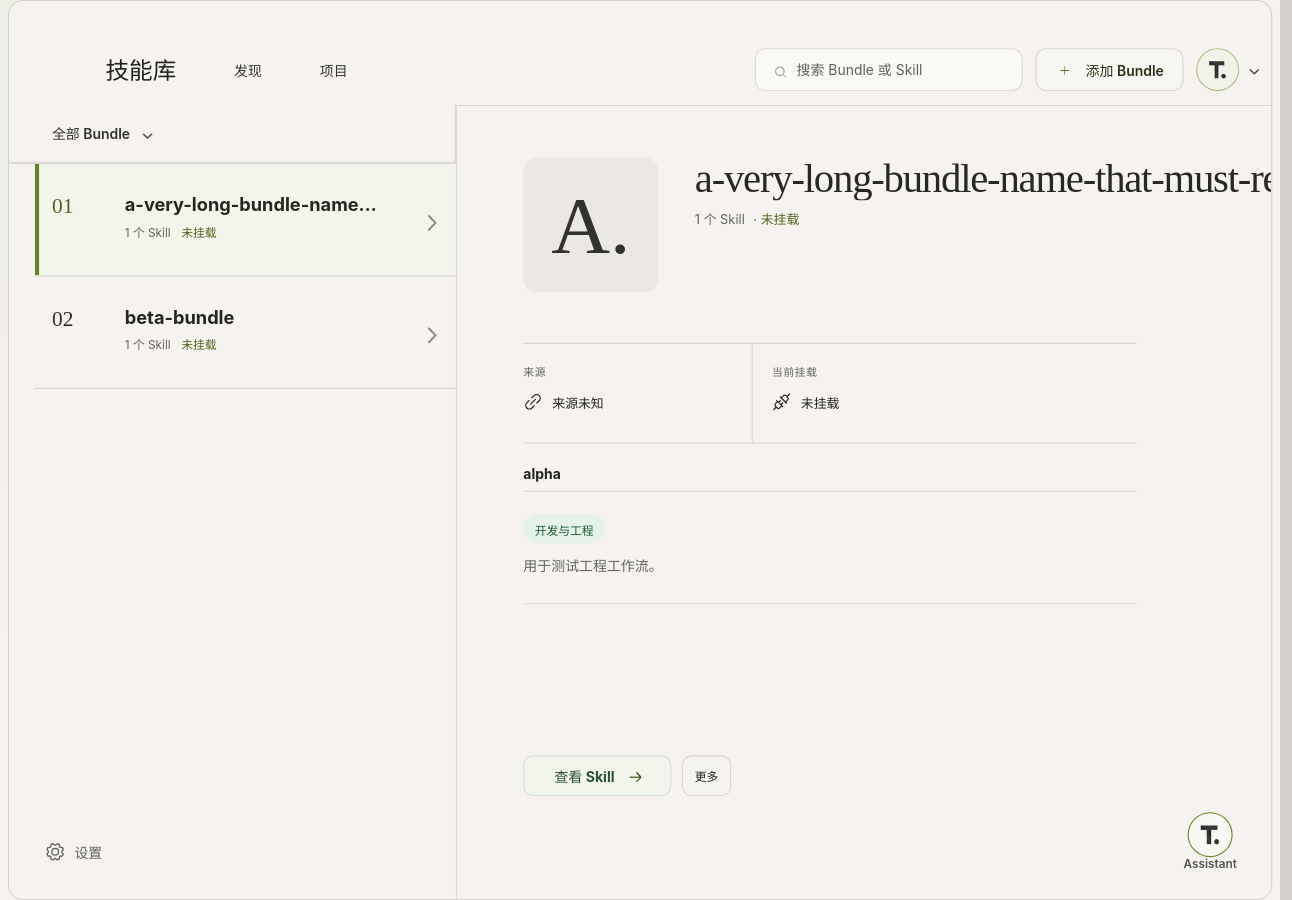
Test: 本机清单 › 默认使用 Ledger，并以 Bundle 清单和当前详情浏览同一份 Inventory
Expected: the text "用于测试工程工作流。" is shown, [523,557,662,574]
Click the button "02 beta-bundle 1 个 Skill 未挂载 打开": (179,317) [35,276,456,389]
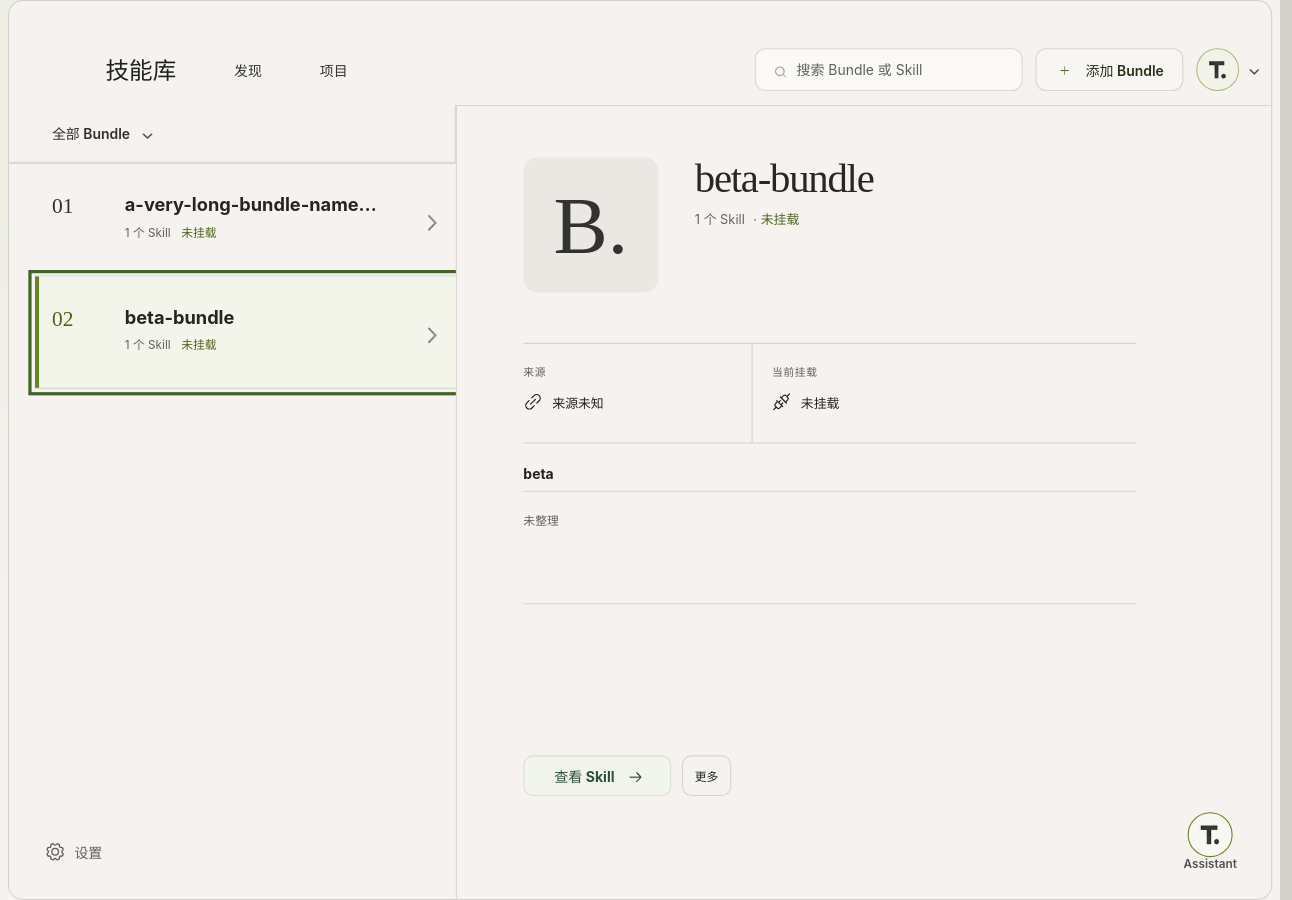
Expected: the heading "beta-bundle" is shown, [695,155,873,200]
